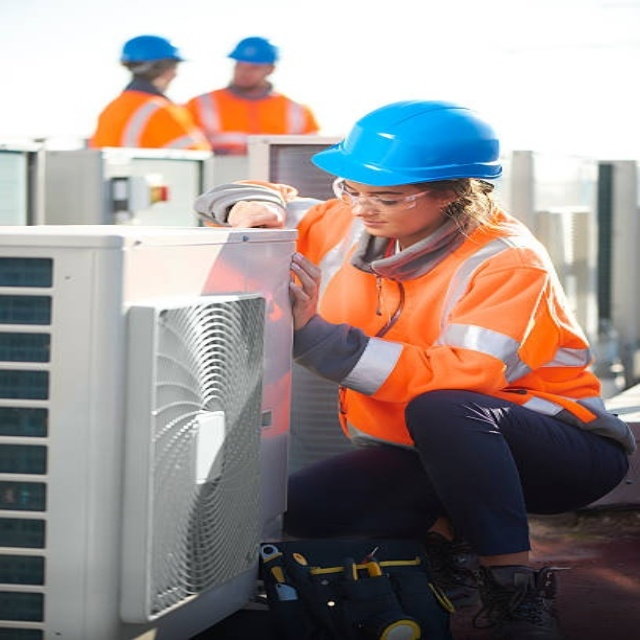Gafas: (329, 176, 442, 209)
Sin_guantes: (287, 249, 320, 319)
Sin_mascara: (356, 214, 400, 239)
